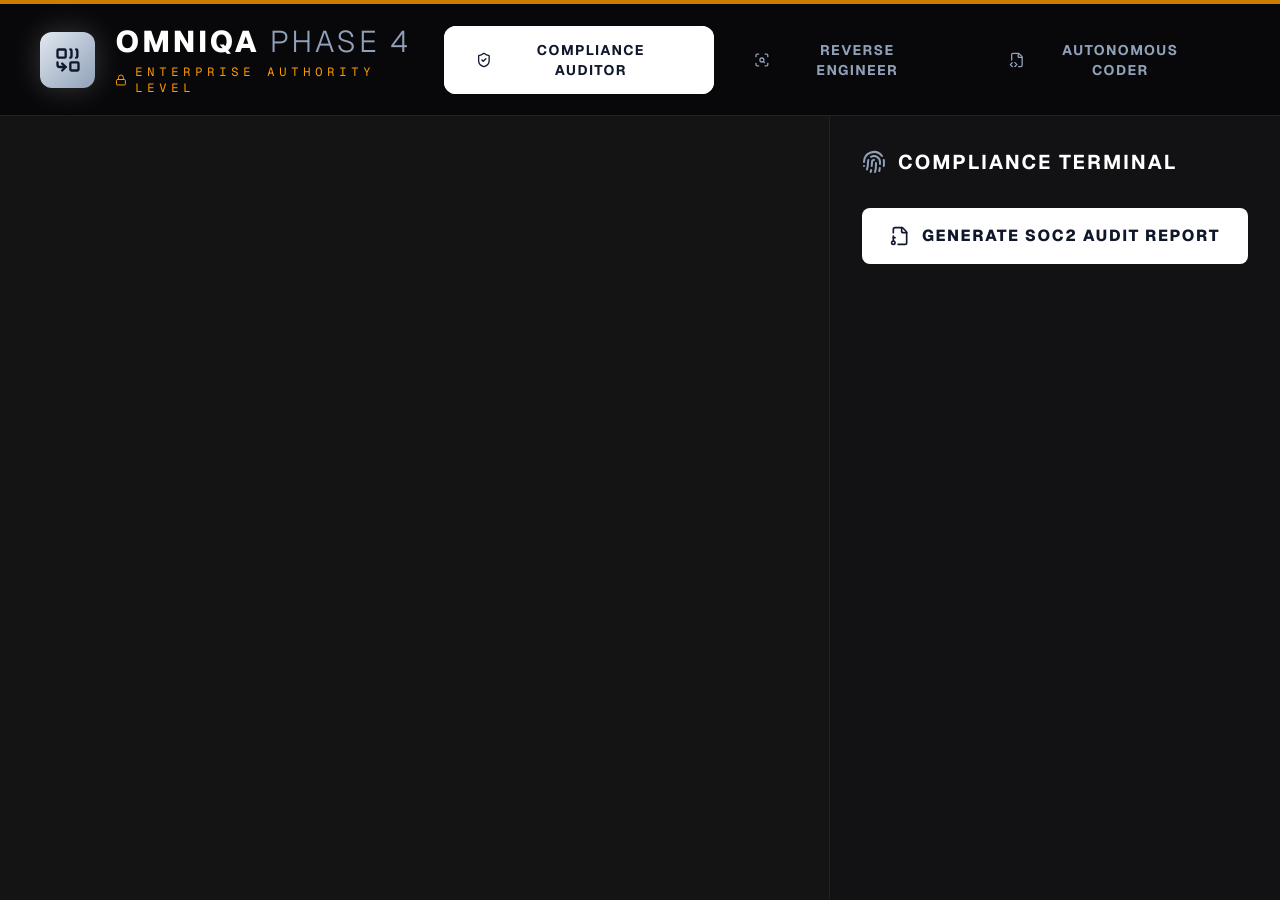
Scenario: OmniQA God Mode Micro-App › Navigation & Header › should switch tabs between Auditor, Reverse Engineer, and Autonomous Coder
Note: Switch to Reverse Engineer tab
Click the button "Reverse Engineer" at (845, 60), box [722, 26, 969, 94]
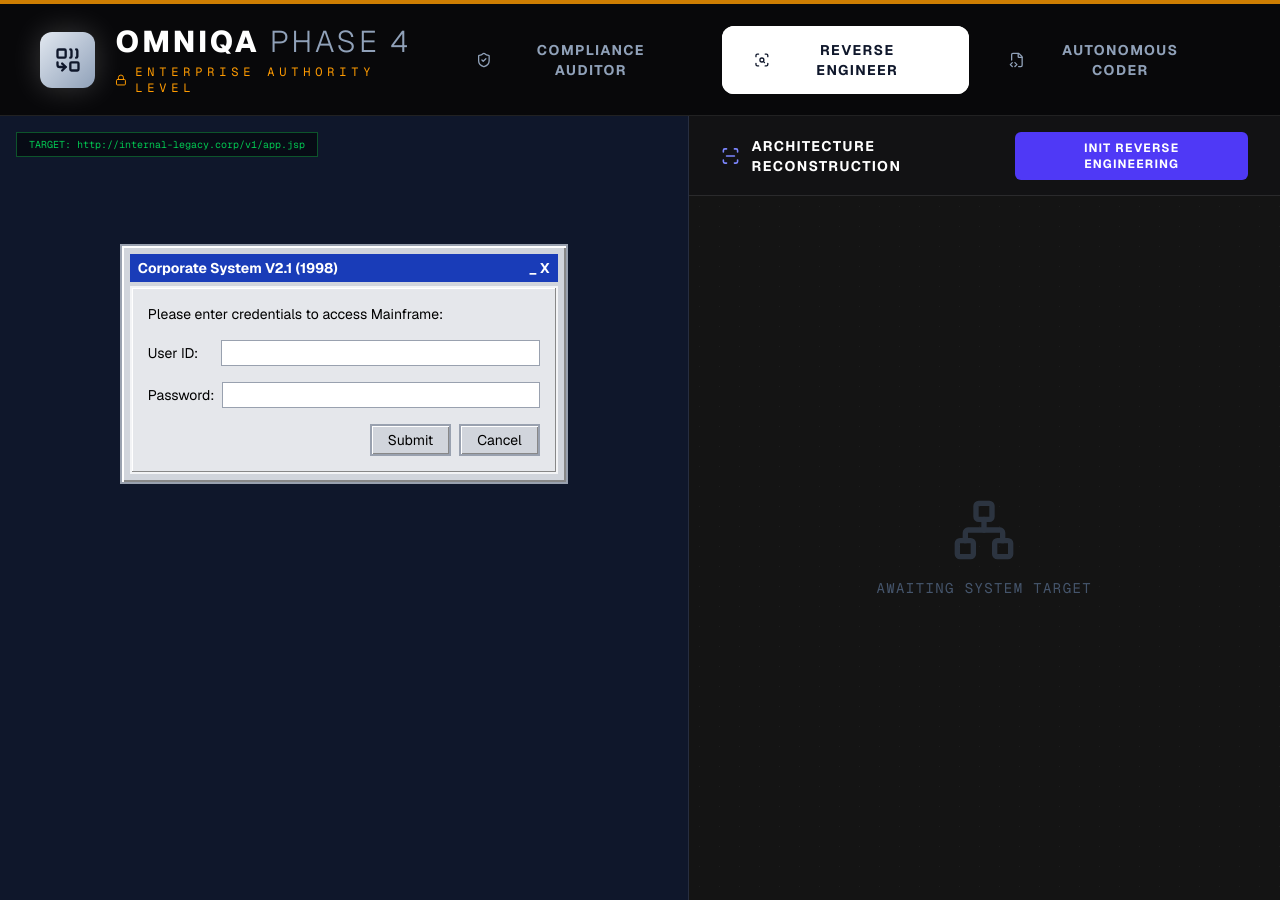
Expected: the heading "Architecture Reconstruction" is shown, [752, 136, 901, 174]
Expected: the button "Generate SOC2 Audit Report" is gone
Note: Switch to Autonomous Coder tab
Click the button "Autonomous Coder" at (1108, 60), box [977, 26, 1240, 94]
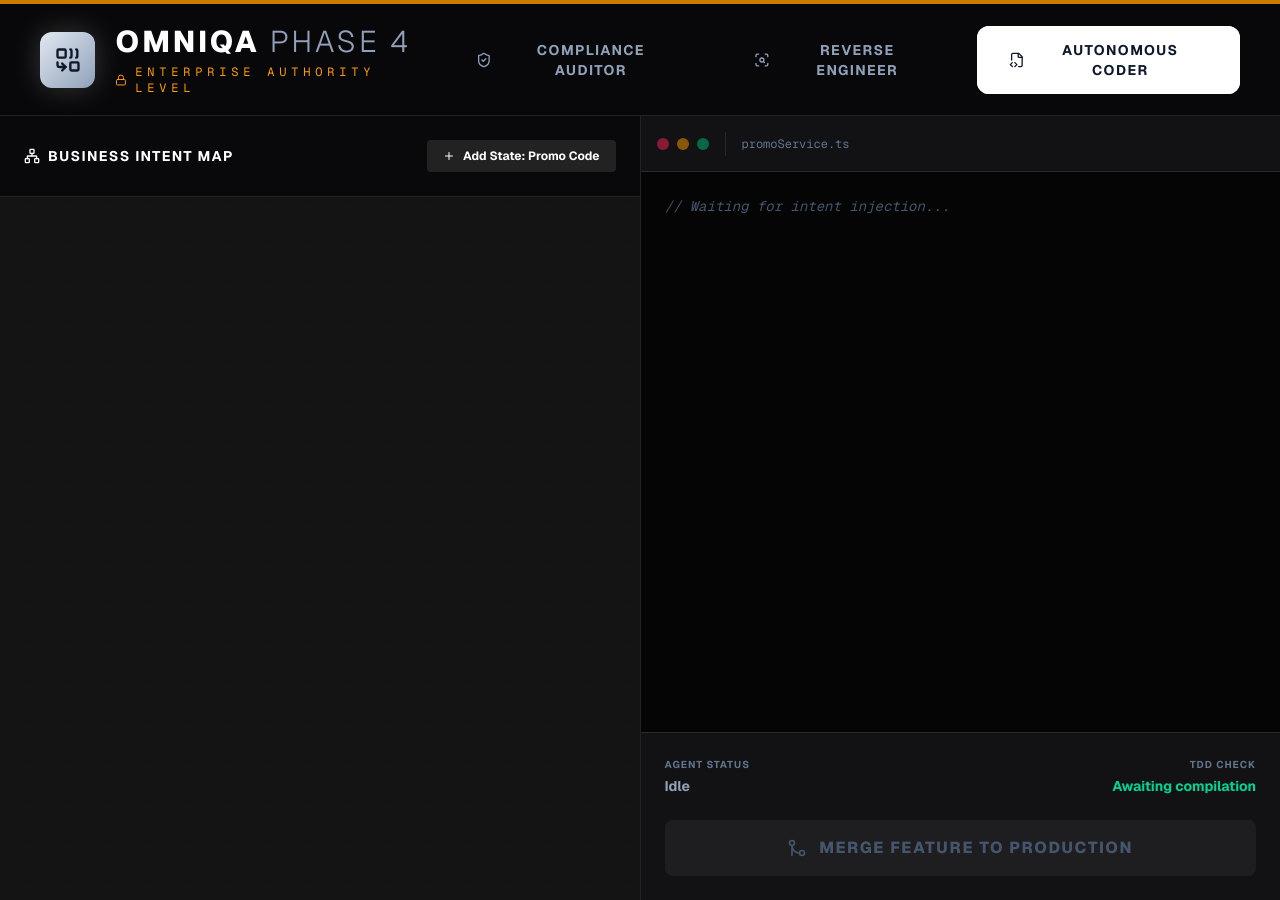
Expected: the heading "Business Intent Map" is shown, [24, 146, 234, 166]
Expected: the text "promoService.ts" is shown, [742, 136, 850, 152]
Note: Switch back to Compliance Auditor tab
Click the button "Compliance Auditor" at (579, 60), box [444, 26, 714, 94]
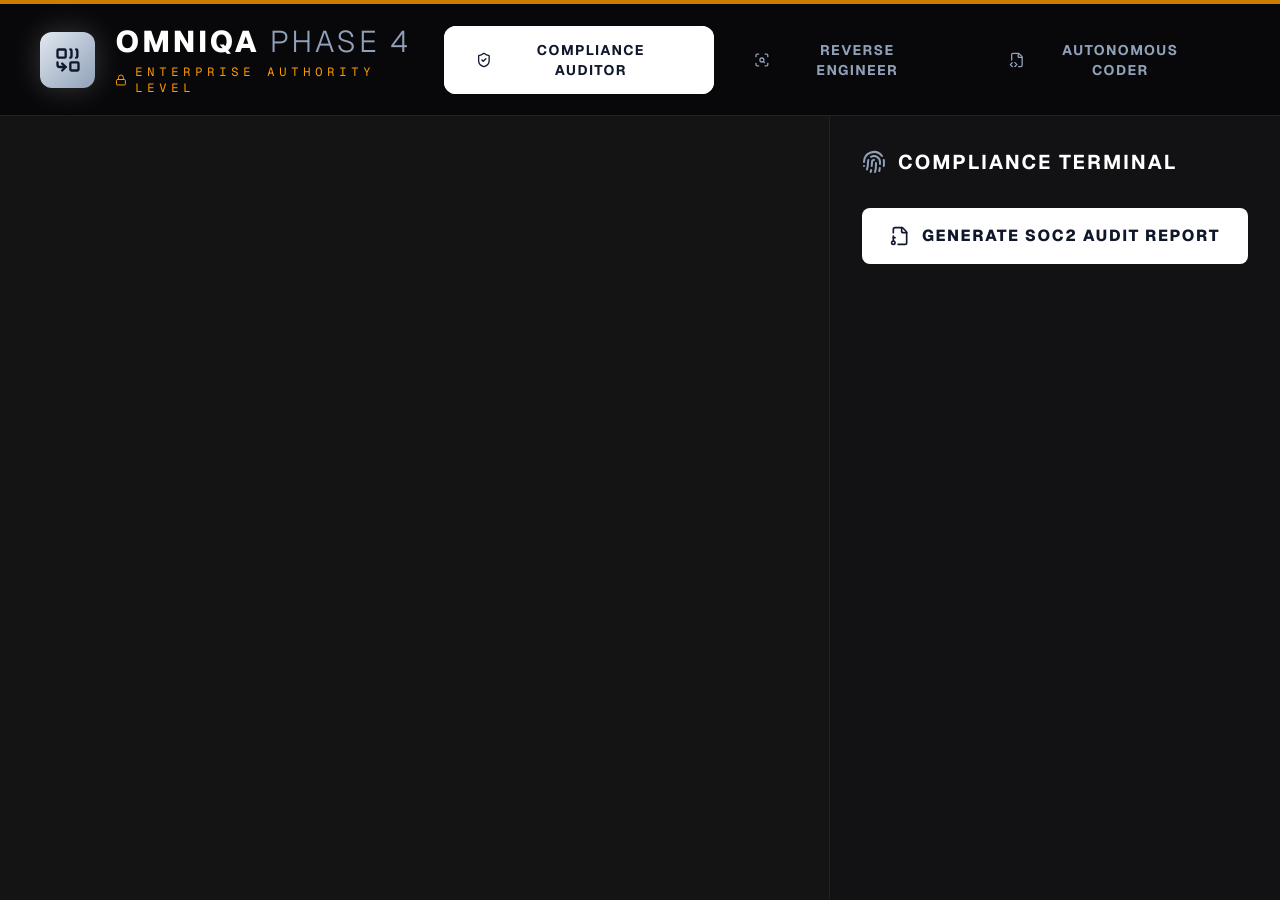
Expected: the button "Generate SOC2 Audit Report" is shown, [862, 208, 1248, 264]
